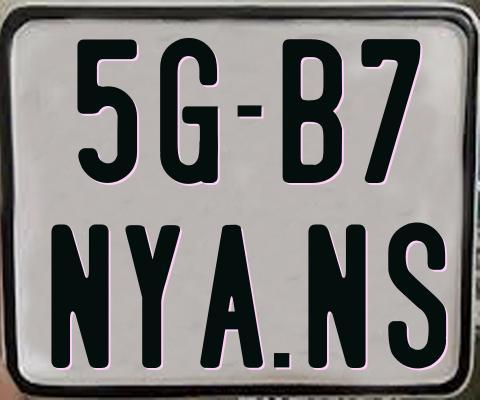5: (76, 36, 137, 182)
7: (360, 39, 422, 186)
A: (198, 222, 264, 370)
B: (282, 38, 342, 185)
G: (157, 37, 217, 186)
N: (306, 223, 365, 371), (50, 221, 108, 365)
S: (386, 222, 448, 371)
Y: (123, 222, 184, 369)
